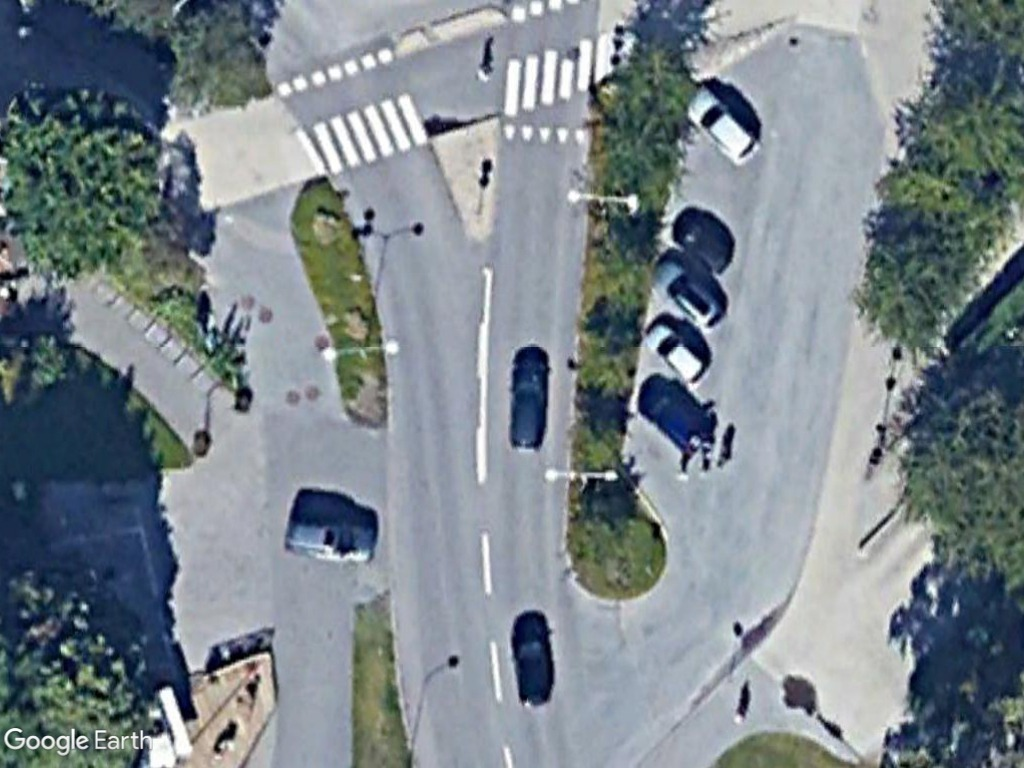car: (681, 80, 765, 171), (648, 255, 727, 332), (636, 369, 711, 449), (279, 515, 382, 567), (643, 310, 709, 386), (504, 352, 552, 455), (507, 617, 559, 710), (669, 206, 737, 276)
